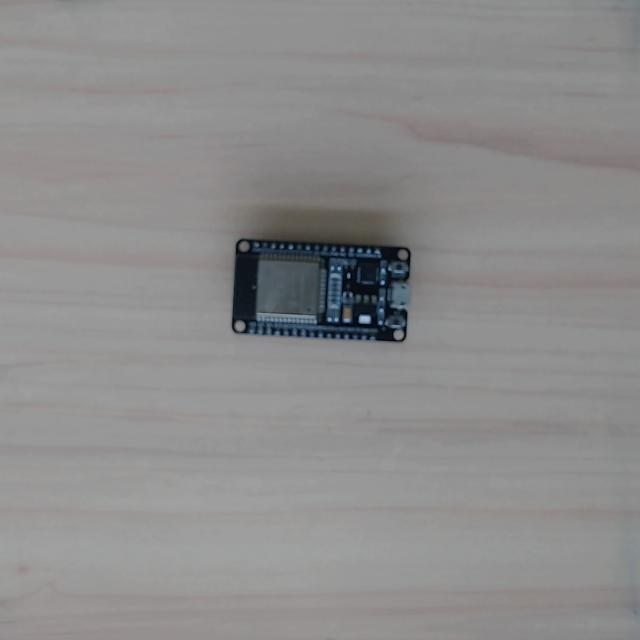ESP32-DevKit: (231, 238, 412, 342)
